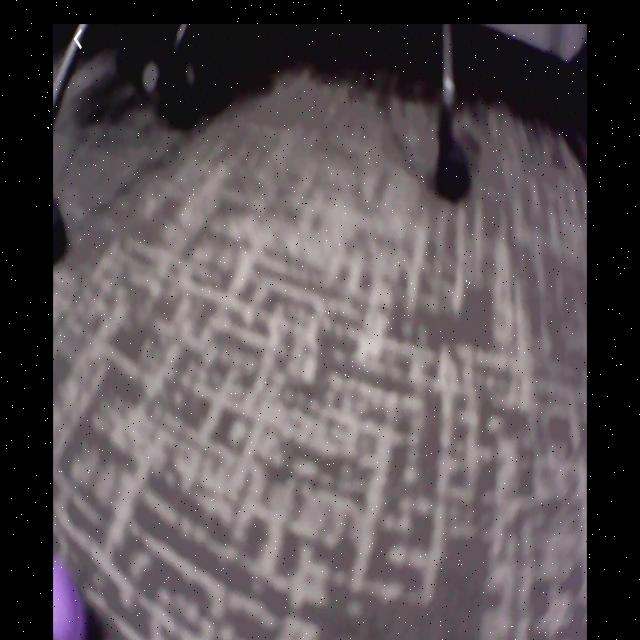ball: (53, 554, 90, 638)
